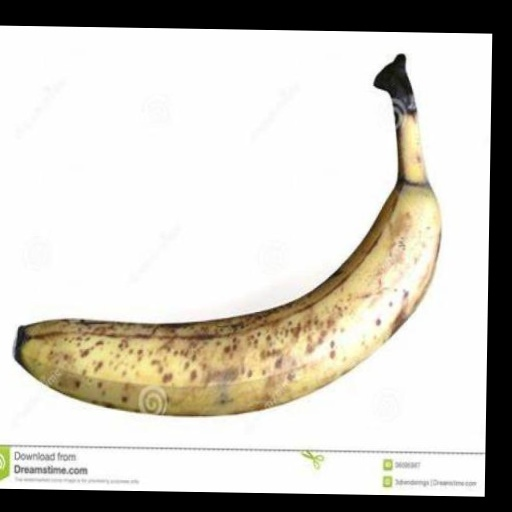fruit: (15, 55, 441, 415)
